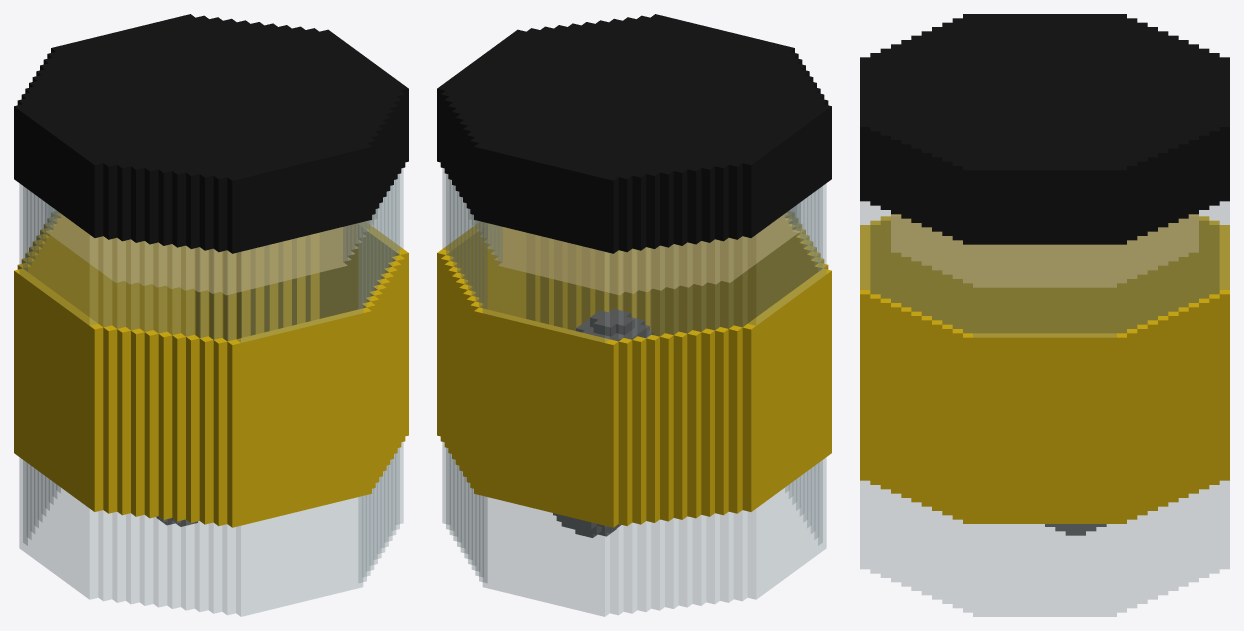
The model's file is chem_potassium.glb.
The picture shows the model from 3 angles, left to right: view 1: azimuth 30°, elevation 25°; view 2: azimuth 150°, elevation 25°; view 3: azimuth 270°, elevation 25°; orthographic projection.
Parts seen in each view (by area): view 1: chem_potassium:compound; view 2: chem_potassium:compound; view 3: chem_potassium:compound.
Part boxes in pixels (left/top/right/bottom): chem_potassium:compound: left=14, top=14, right=408, bottom=616; chem_potassium:compound: left=437, top=14, right=831, bottom=616; chem_potassium:compound: left=860, top=14, right=1229, bottom=616.
Bounding box in the file's own units: 0.072 × 0.096 × 0.072.
